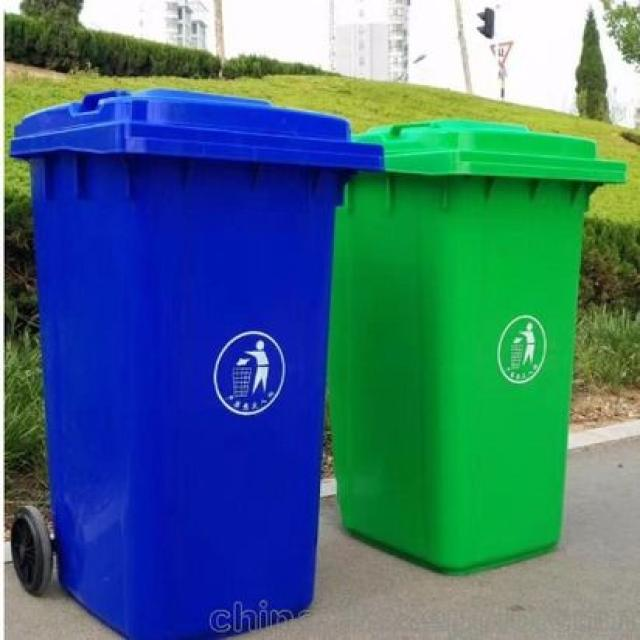garbage_bin: (9, 88, 384, 639), (325, 116, 626, 576)
